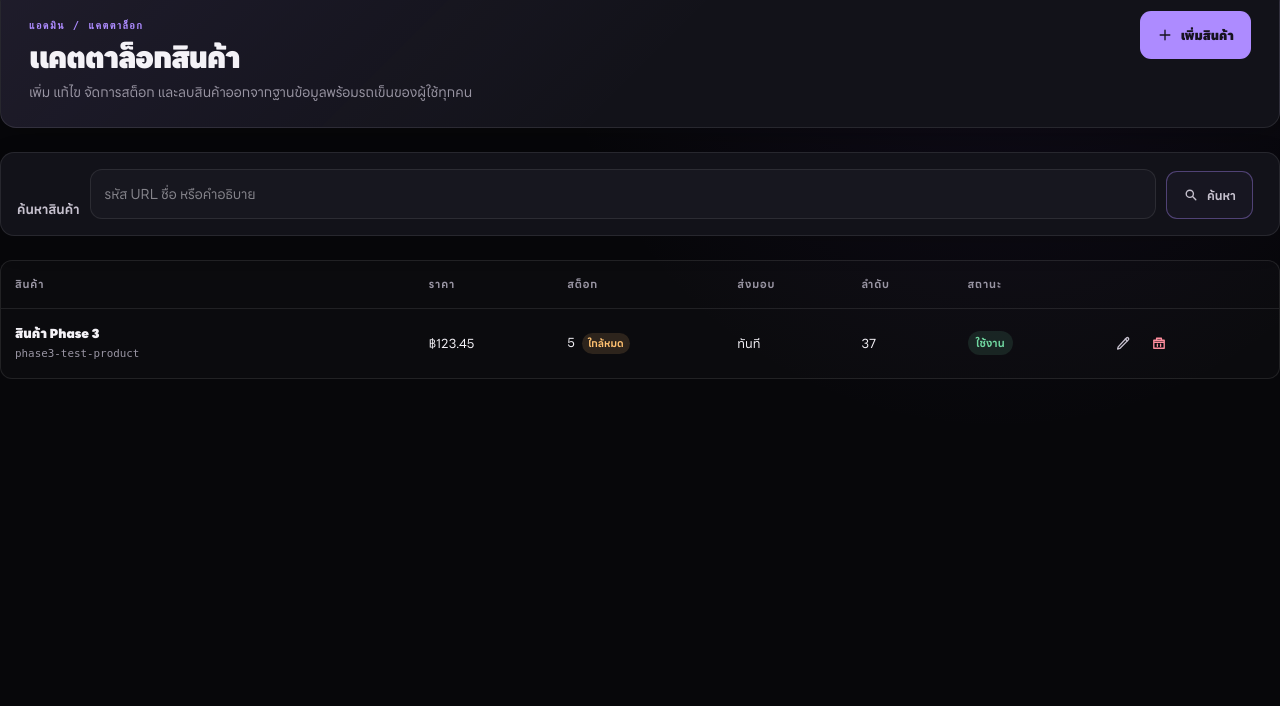
Test: AdminProductsConsole › uses custom keyboard-accessible dropdowns for delivery and status
Click the button "เพิ่มสินค้า": (1195, 35) [1140,11,1251,59]
(page scrolled)
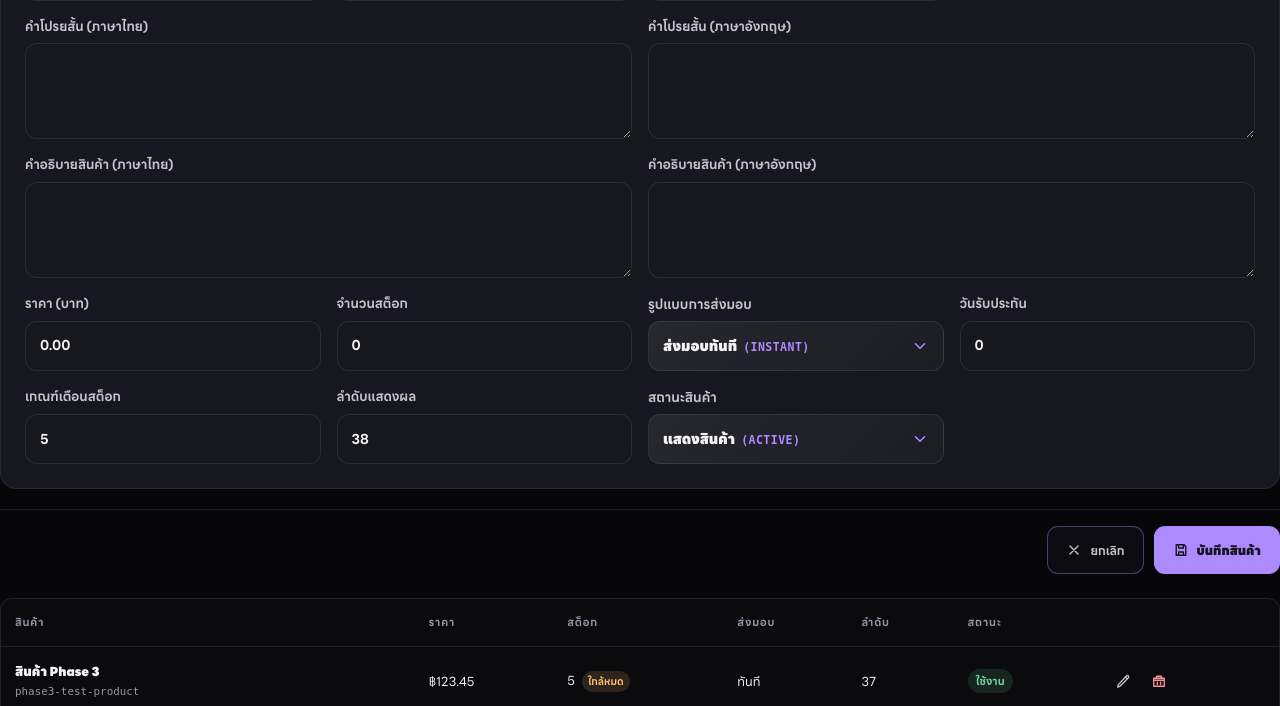
Click the dropdown named "รูปแบบการส่งมอบ": (796, 346) [648,321,944,371]
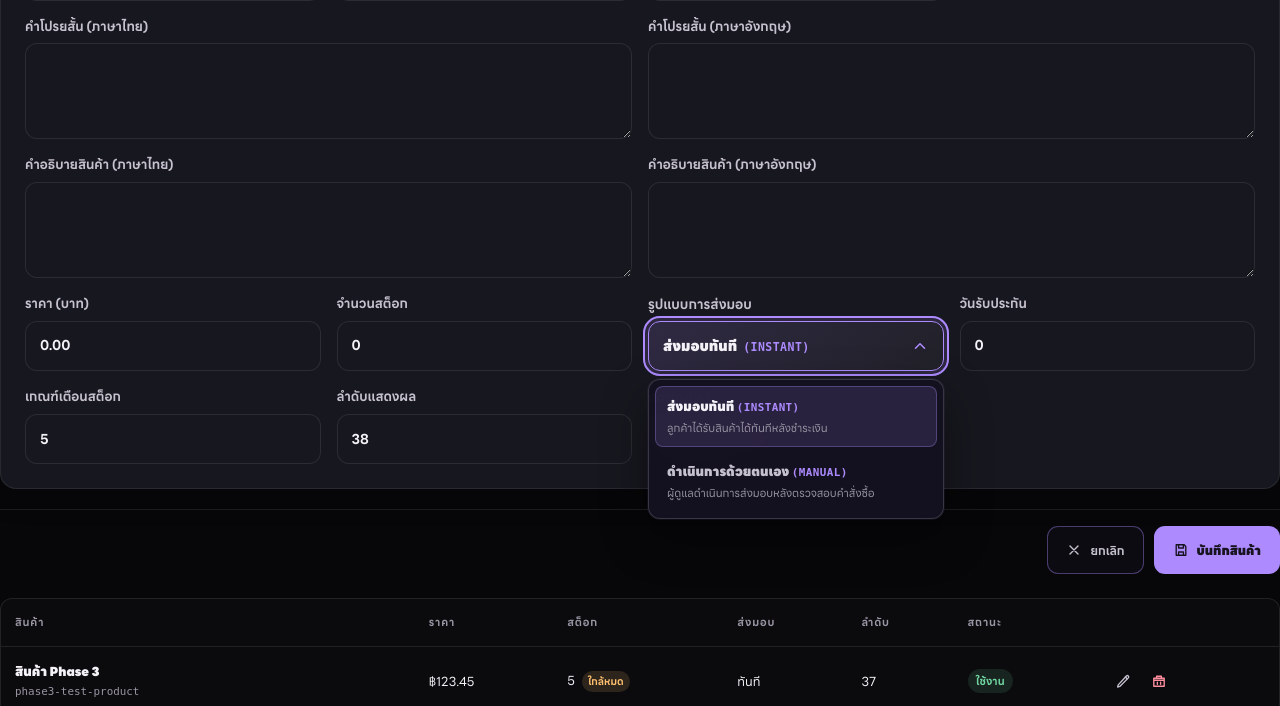
Now the list named "รูปแบบการส่งมอบ" is shown, box [648,379,944,519]
Click the option "ดำเนินการด้วยตนเอง (MANUAL)": (771, 481) [667,463,874,500]
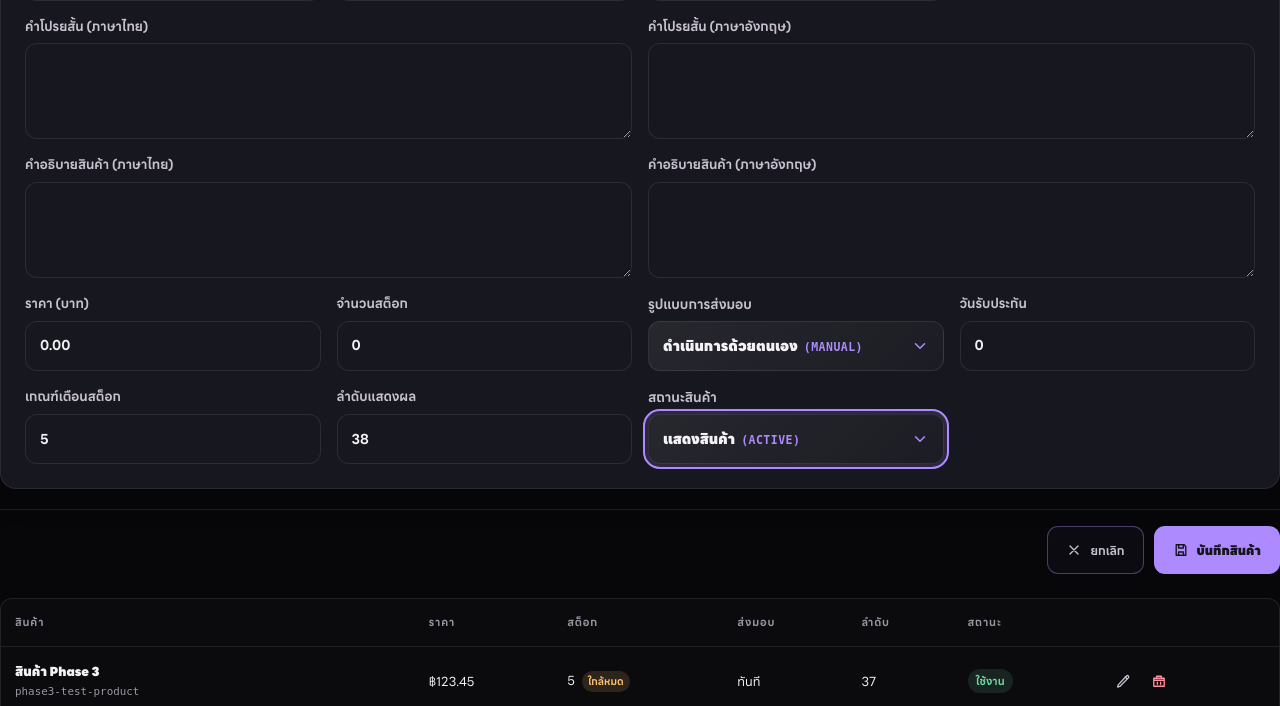
Now the dropdown named "รูปแบบการส่งมอบ" reads "ดำเนินการด้วยตนเอง (MANUAL)", box [648,321,944,371]
Type keys " "
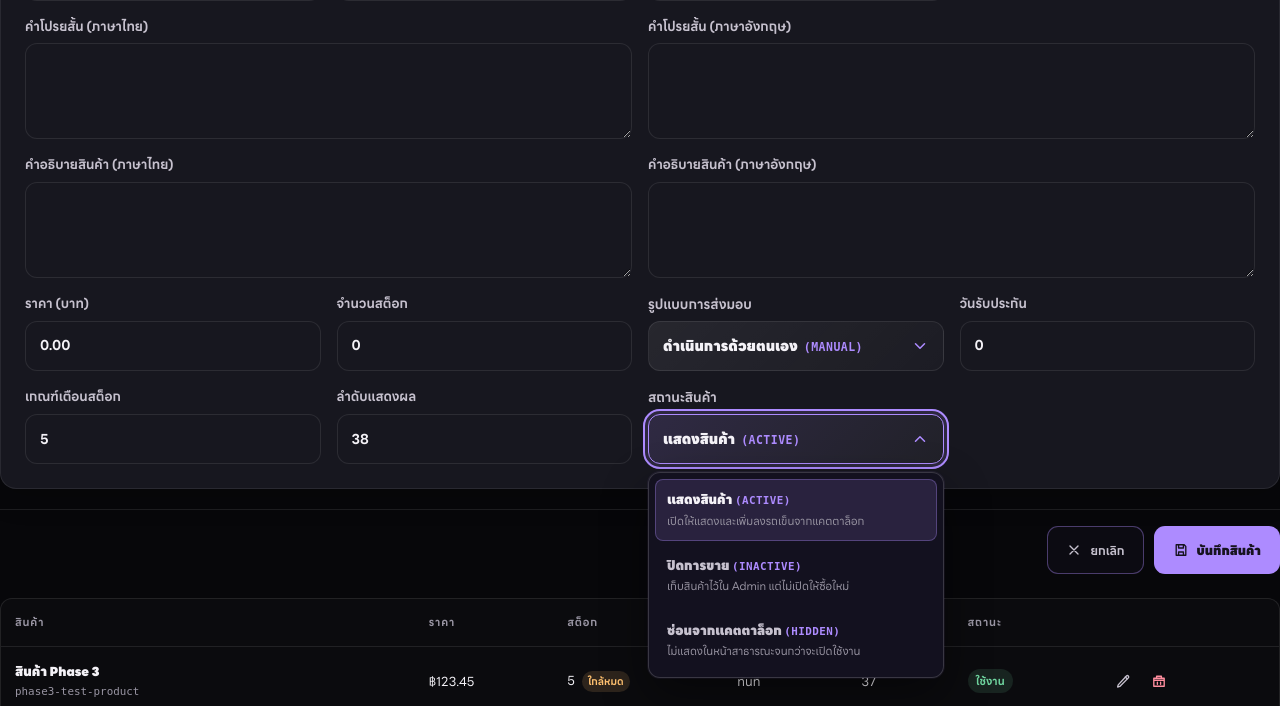
Press Arrowdown Arrowdown Enter
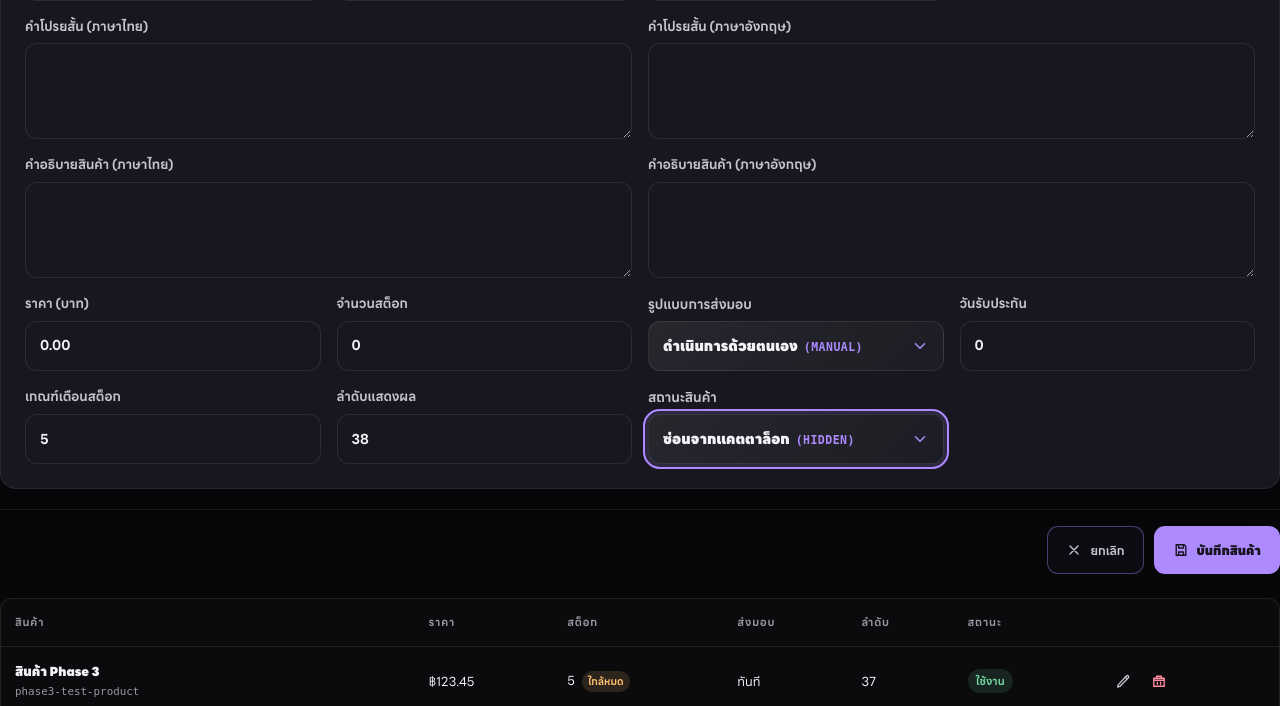
Now the dropdown named "สถานะสินค้า" reads "ซ่อนจากแคตตาล็อก (HIDDEN)", box [648,414,944,464]
